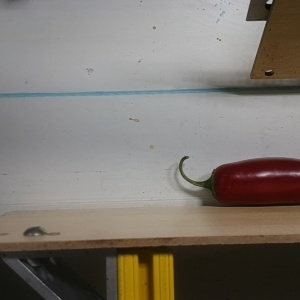Cut Point: (199, 164, 233, 204)
